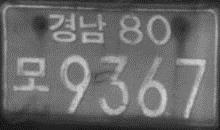0: (145, 13, 171, 46)
3: (97, 54, 129, 117)
6: (136, 54, 169, 119)
7: (173, 56, 208, 121)
8: (118, 12, 143, 46)
9: (58, 52, 92, 114)
경남_O: (47, 12, 107, 44)
모: (12, 54, 51, 94)
